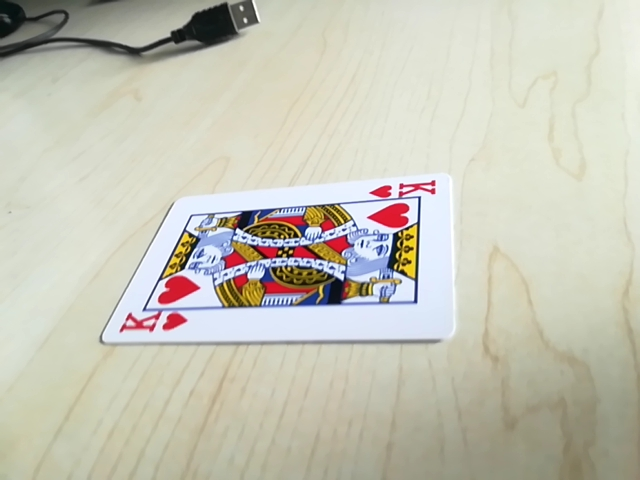hx k: (116, 309, 190, 339), (370, 179, 445, 204)
